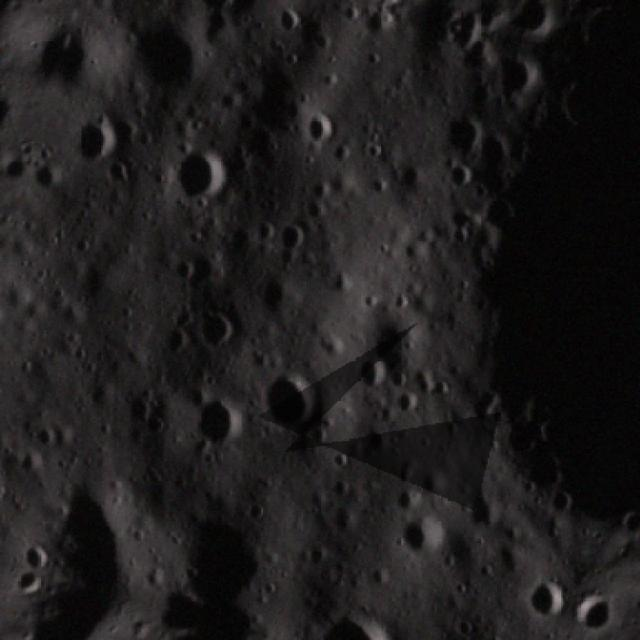crater: (154, 483, 298, 626), (38, 471, 173, 603), (109, 5, 225, 117), (344, 295, 438, 394), (243, 358, 332, 448), (156, 133, 244, 222), (478, 41, 552, 114), (184, 382, 253, 460), (306, 592, 417, 640), (422, 103, 495, 169), (61, 100, 128, 169), (168, 239, 237, 303), (389, 512, 460, 574), (517, 562, 578, 627), (455, 480, 514, 543), (251, 272, 309, 336), (475, 182, 530, 244), (292, 100, 346, 158), (191, 310, 247, 362), (262, 212, 316, 262), (316, 258, 366, 310), (216, 218, 264, 272), (462, 385, 508, 440), (348, 350, 395, 398), (100, 154, 145, 200), (542, 480, 586, 526), (292, 186, 336, 231), (184, 0, 256, 26), (118, 386, 162, 428), (359, 6, 403, 48), (409, 461, 451, 504), (268, 0, 309, 42), (22, 417, 64, 458), (157, 321, 197, 362), (13, 442, 50, 484), (440, 162, 478, 200), (389, 387, 426, 425), (533, 513, 567, 549), (302, 170, 338, 204), (427, 372, 459, 408), (388, 482, 421, 516), (356, 135, 390, 168), (473, 552, 501, 585), (142, 412, 172, 442), (517, 626, 560, 640)
